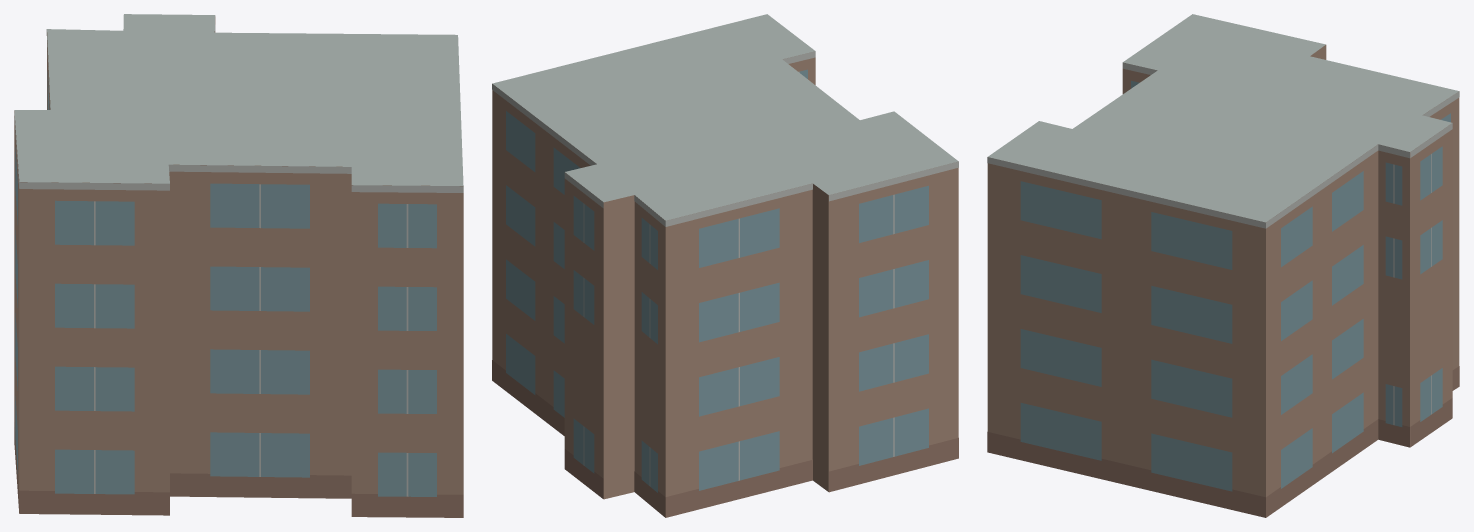
File: survey-upis-32706590.glb
The picture shows the model from 3 angles, left to right: view 1: azimuth 30°, elevation 25°; view 2: azimuth 150°, elevation 25°; view 3: azimuth 270°, elevation 25°; orthographic projection. The views are drawn at different scales.
Parts seen in each view (by area): view 1: survey-upis-32706590.tmp; view 2: survey-upis-32706590.tmp; view 3: survey-upis-32706590.tmp.
Boxes of the visible parts, x1,y1,x2,y2 form: survey-upis-32706590.tmp: (14, 14, 463, 517); survey-upis-32706590.tmp: (492, 14, 958, 517); survey-upis-32706590.tmp: (987, 14, 1459, 517).
Size of the model in its own units: 17.57 by 11.6 by 16.81.
